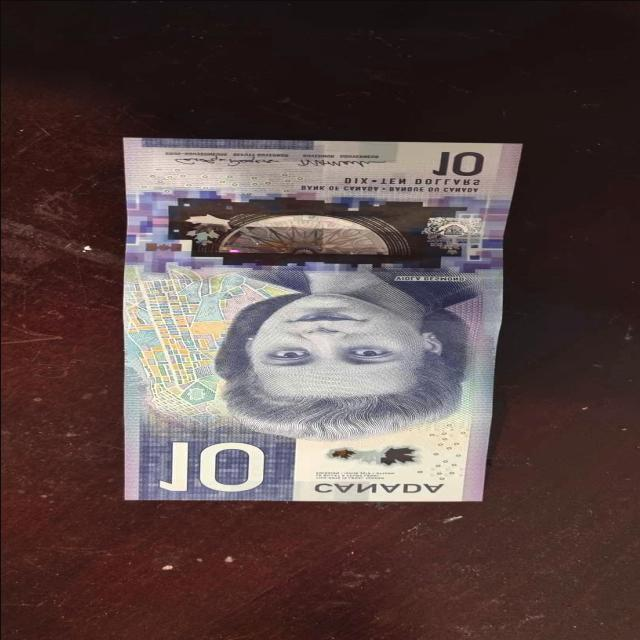10 cad: (101, 138, 534, 502)
